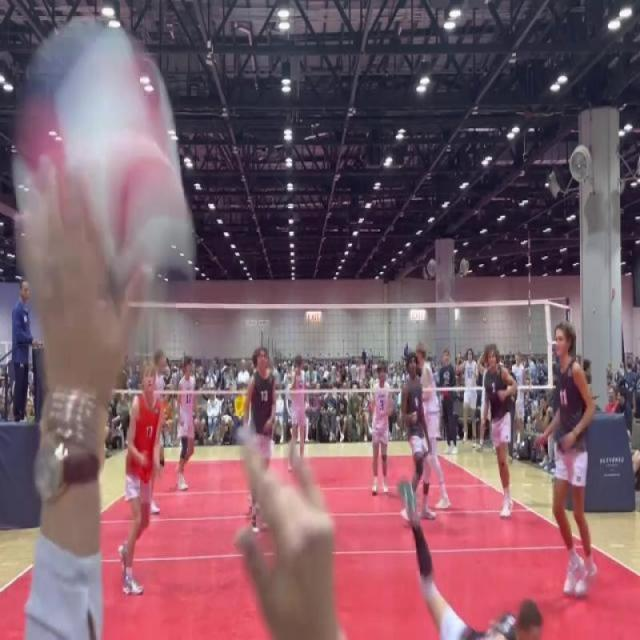volleyball: (9, 5, 202, 322)
